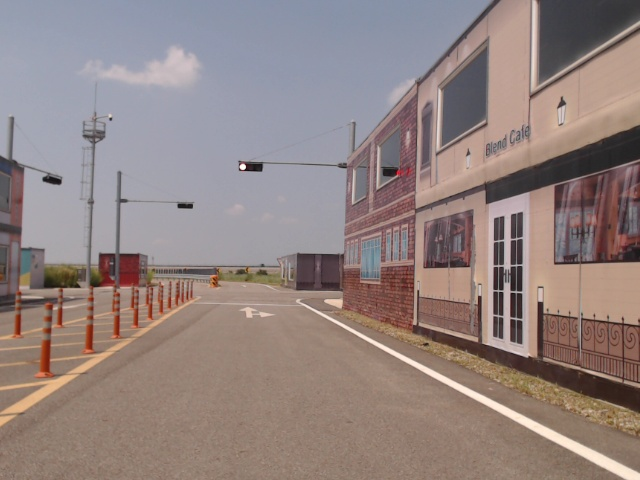red_3: (239, 164, 262, 171)
